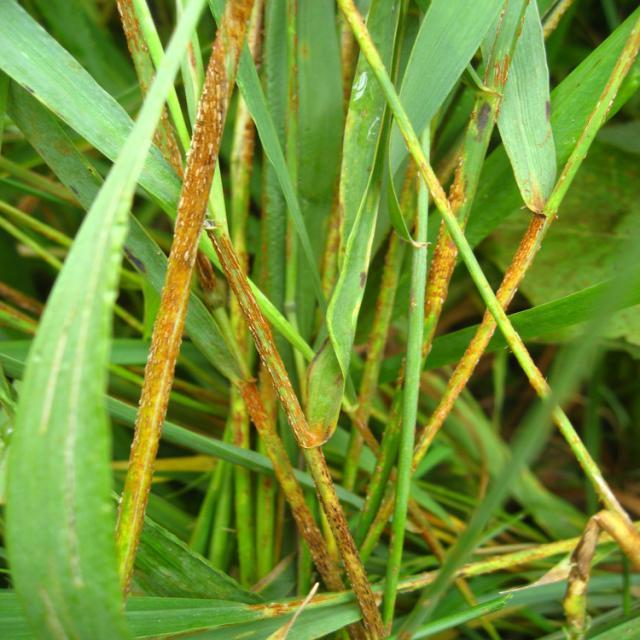Stem Rust: (139, 12, 510, 628)
